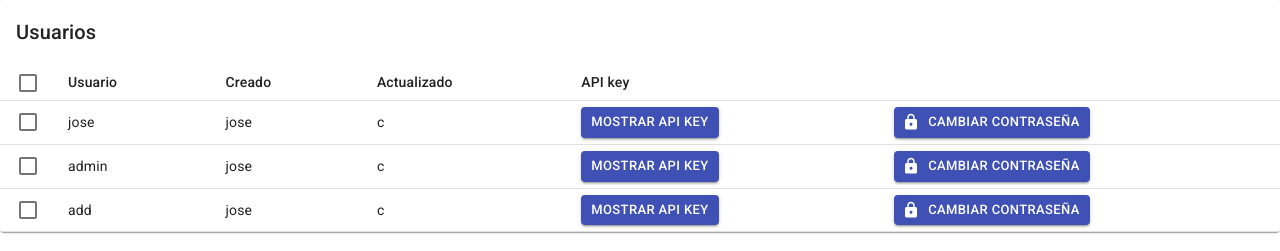
Test case: checkbox check › toolbar to show when a checkboxz is checked
Click the checkbox named "table row checkbox" at (28, 122), box [16,110,40,134]
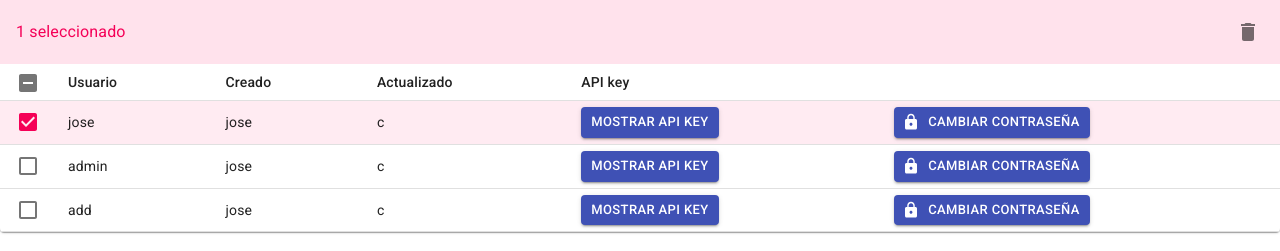
Check: the text "1 seleccionado" is shown, box [16,22,126,41]
